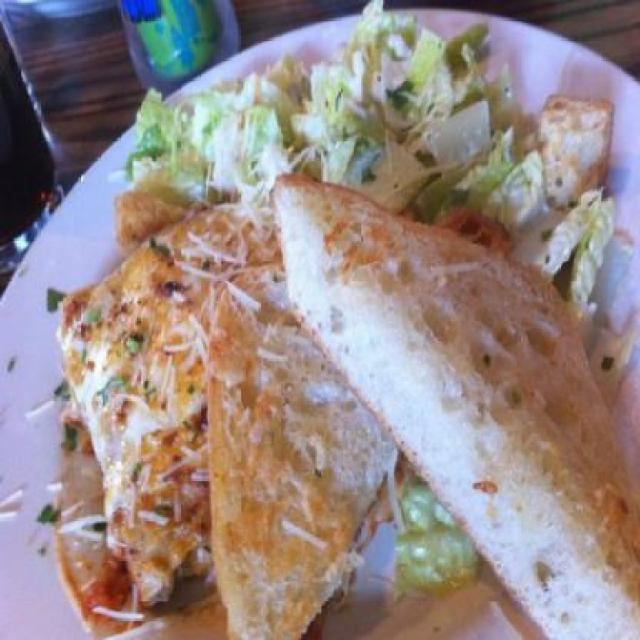Lasagna: (32, 220, 205, 594)
